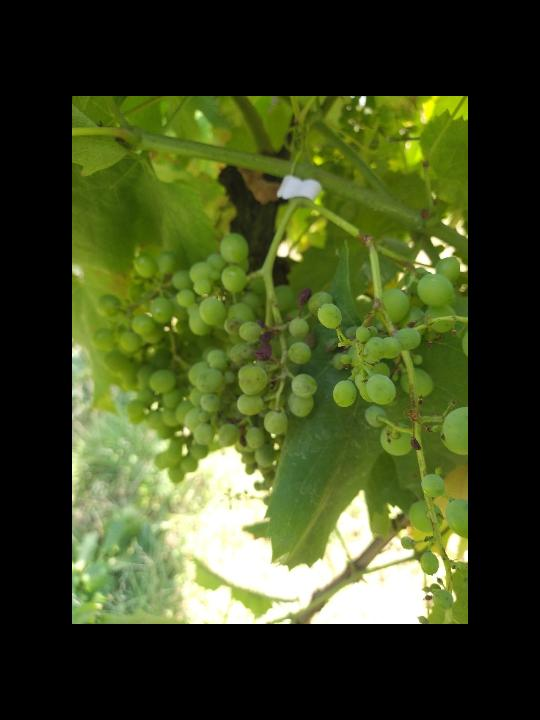grape: (177, 233, 334, 471)
